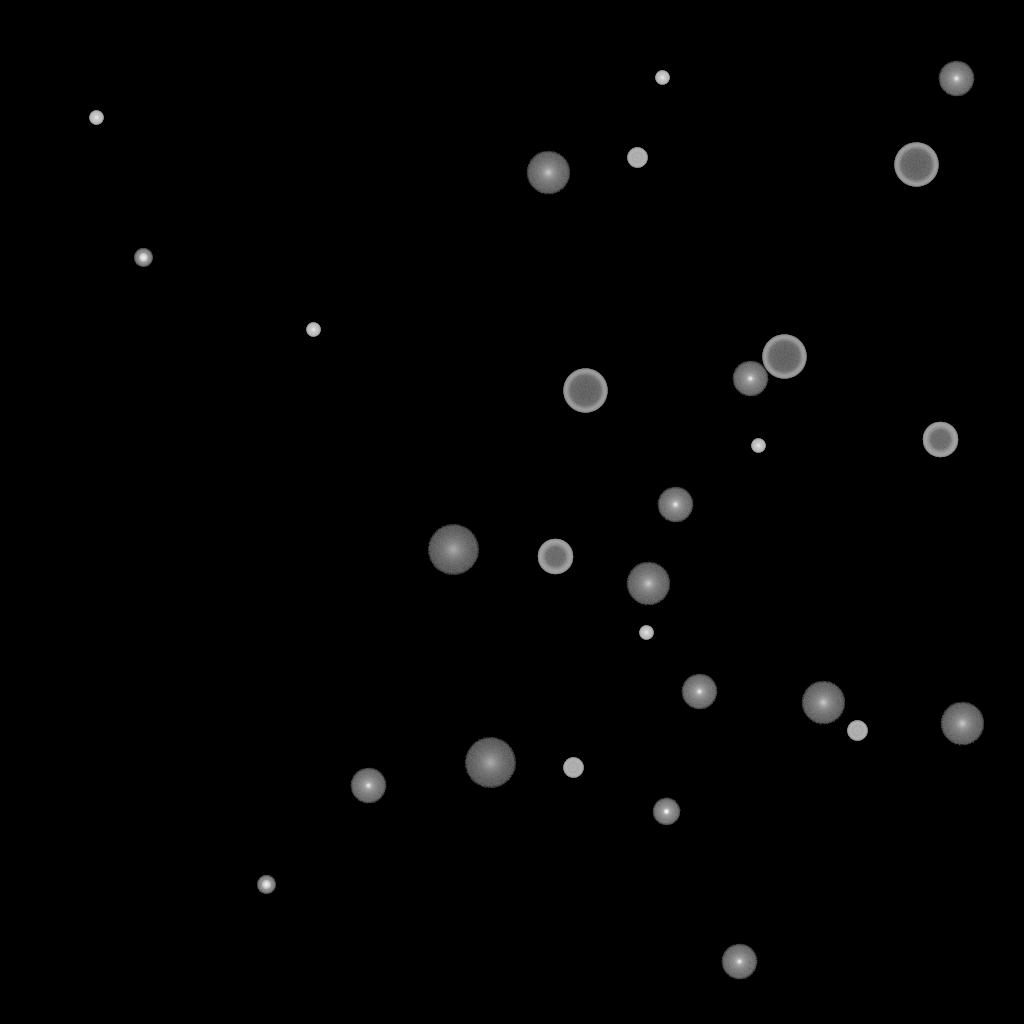depth:-10: (652, 798, 680, 826)
depth:-20: (134, 249, 152, 267), (257, 876, 275, 894)
depth:-30: (639, 626, 653, 640), (89, 111, 103, 125), (655, 71, 669, 85), (306, 323, 320, 337), (751, 439, 765, 453)
depth:-40: (847, 721, 867, 741), (627, 148, 647, 168), (563, 758, 583, 778)
depth:-60: (922, 422, 958, 458), (537, 539, 573, 575)
depth:-70: (563, 369, 607, 413), (762, 335, 806, 379), (894, 143, 938, 187)
depth:0: (721, 944, 757, 980), (350, 768, 386, 804), (732, 361, 768, 397), (938, 61, 974, 97), (657, 487, 693, 523), (681, 674, 717, 710)
depth:10: (940, 702, 984, 746), (626, 562, 670, 606), (801, 681, 845, 725), (526, 151, 570, 195)
depth:20: (427, 525, 479, 575), (464, 738, 516, 788)
